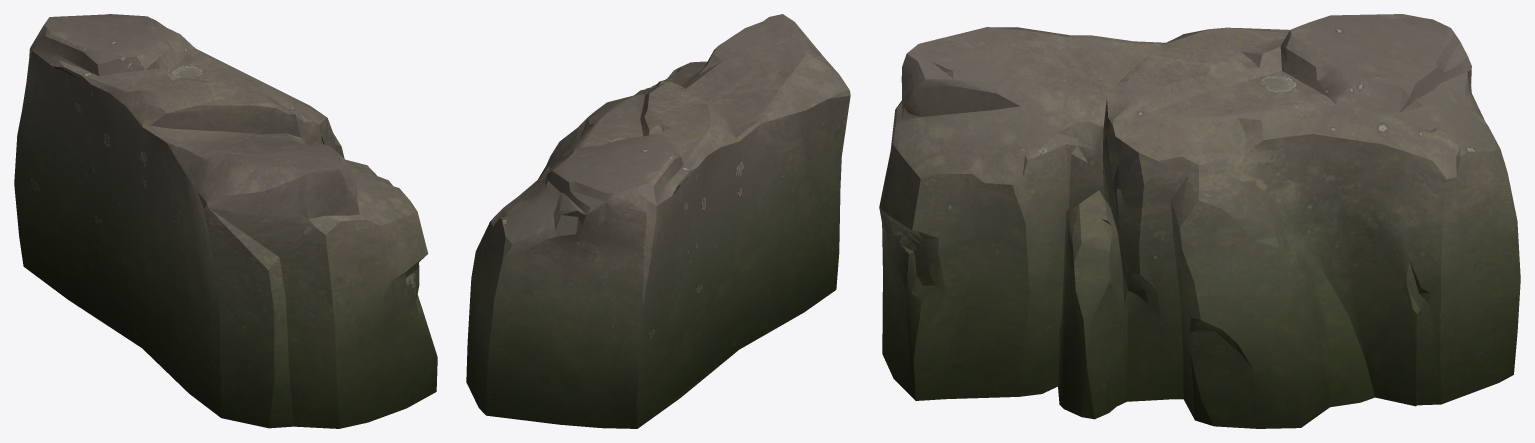
The model's file is riveredge_rock_wall003a.fbx.
3 views of the same model, side by side, from view 1: azimuth 30°, elevation 25°; view 2: azimuth 150°, elevation 25°; view 3: azimuth 270°, elevation 25° (orthographic). The views are drawn at different scales.
Parts seen in each view (by area): view 1: riveredge_rock_wall003a; view 2: riveredge_rock_wall003a; view 3: riveredge_rock_wall003a.
Boxes of the visible parts, x1,y1,x2,y2 form: riveredge_rock_wall003a: (14, 14, 437, 428); riveredge_rock_wall003a: (466, 14, 850, 428); riveredge_rock_wall003a: (879, 14, 1520, 428).
Size of the model in its own units: 268 by 254 by 504.
